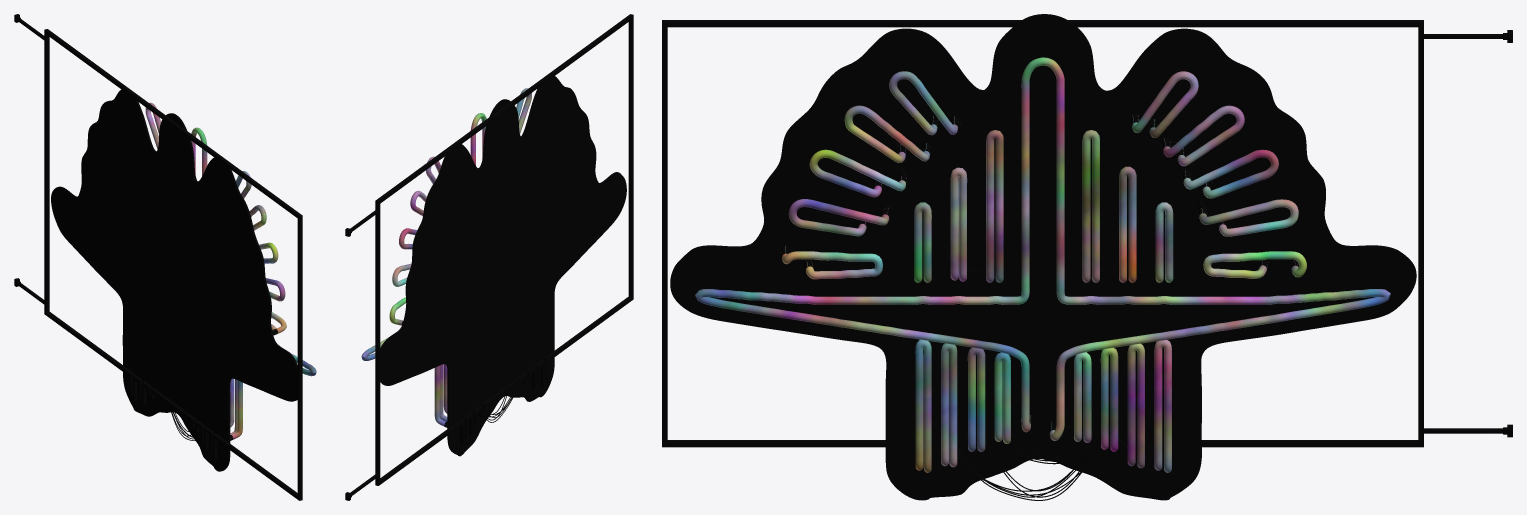
File: neonsign_10.fbx
The picture shows the model from 3 angles, left to right: view 1: azimuth 30°, elevation 25°; view 2: azimuth 150°, elevation 25°; view 3: azimuth 270°, elevation 25°; orthographic projection. The views are drawn at different scales.
Parts seen in each view (by area): view 1: neonsign_10; view 2: neonsign_10; view 3: neonsign_10.
Part boxes in pixels (x1,y1,x2,y2): neonsign_10: (14, 14, 316, 500); neonsign_10: (345, 14, 633, 500); neonsign_10: (662, 14, 1512, 500).
Bounding box in the file's own units: 0.1818 × 1.9 × 3.02.
